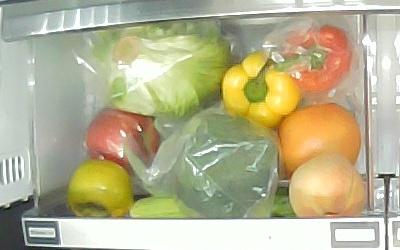apple_vinyl: (86, 107, 161, 175)
broccoli_vinyl: (176, 114, 277, 219)
cucumber: (130, 194, 296, 218)
grapefruit: (277, 102, 361, 179)
lettuce_vinyl: (91, 20, 235, 115)
paprika: (222, 52, 302, 130)
paprika_vinyl: (274, 26, 353, 93)
peach: (289, 154, 364, 217)
persimmon: (67, 160, 135, 217)
